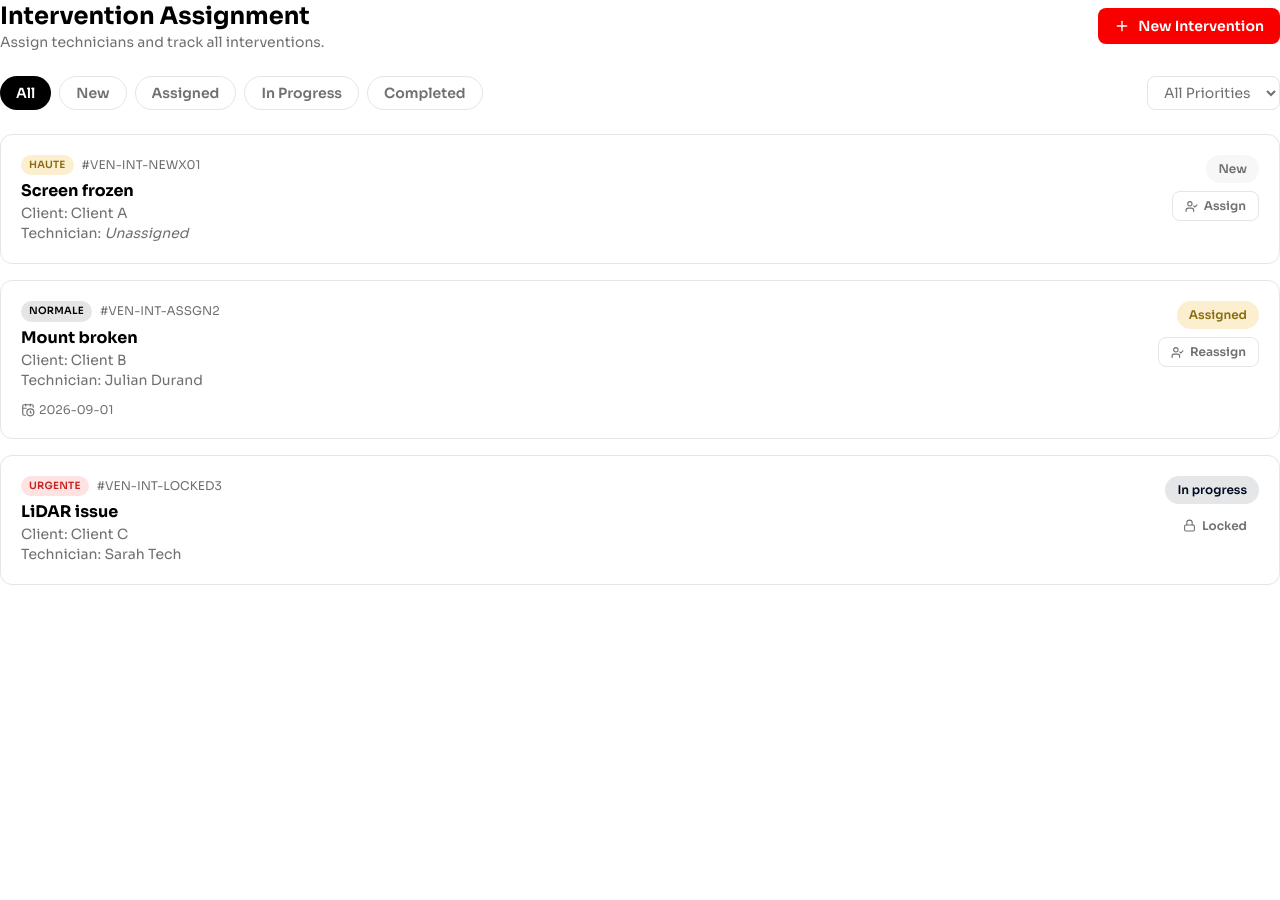
Test: Admin InterventionAssignment › shows a validation message when submitting without selecting a client
expect the heading "Screen frozen" is shown: met, box [21, 180, 134, 201]
Click the button "New Intervention" at coordinates (1189, 26), box [1098, 8, 1279, 44]
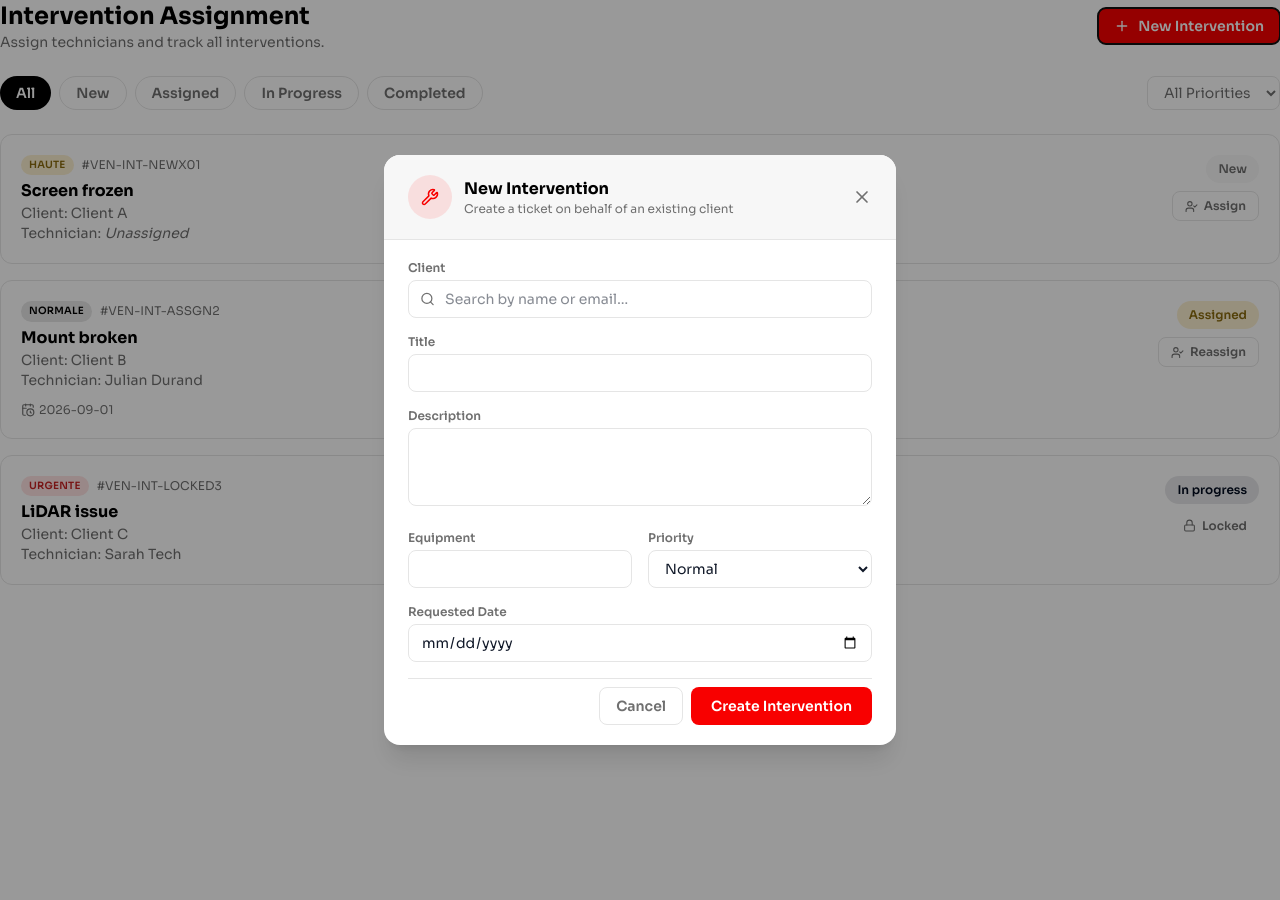
Type "No client" into the field labelled "Title" at coordinates (640, 373), box [408, 354, 872, 392]
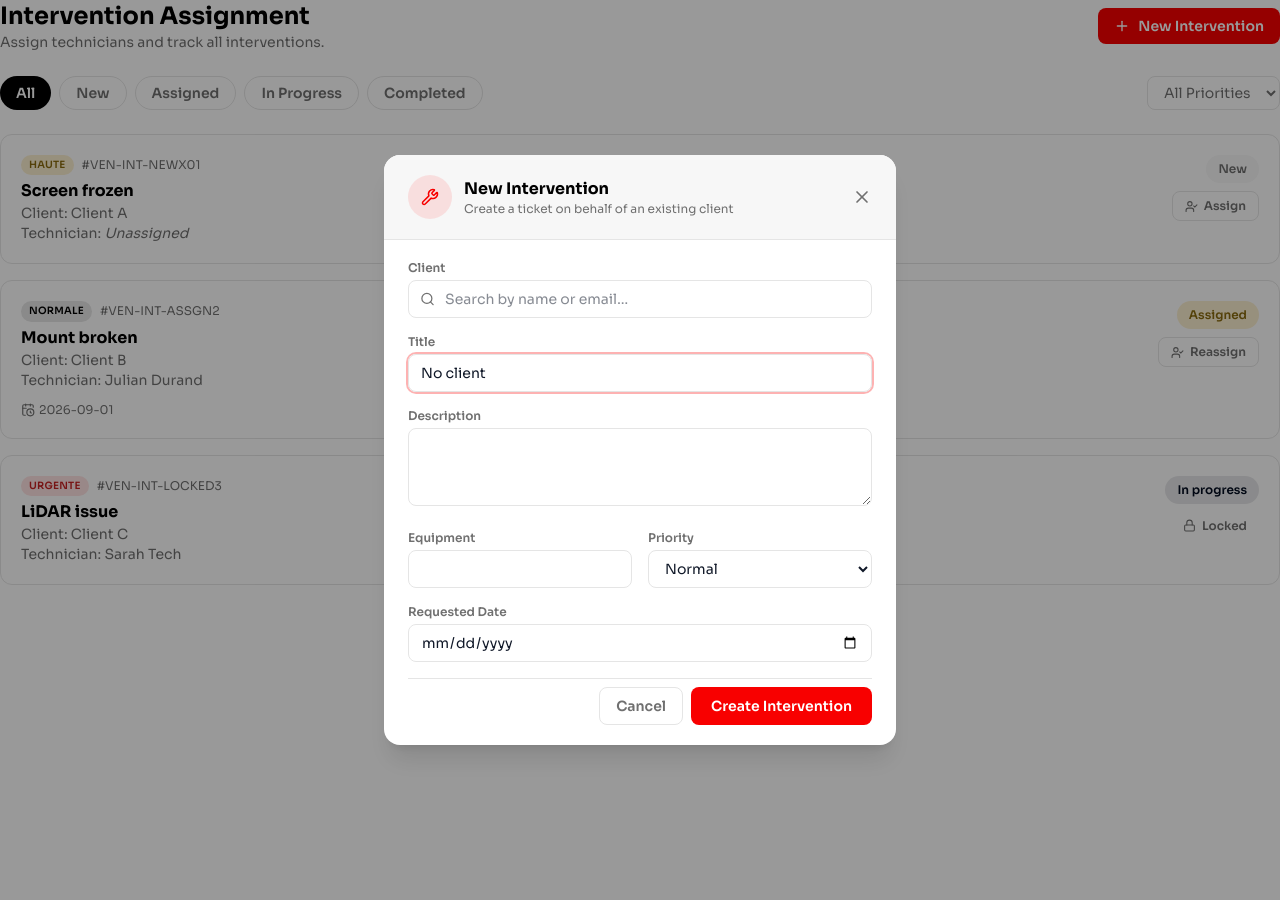
Type "Missing client." into the text box labelled "Description" at coordinates (640, 467), box [408, 428, 872, 506]
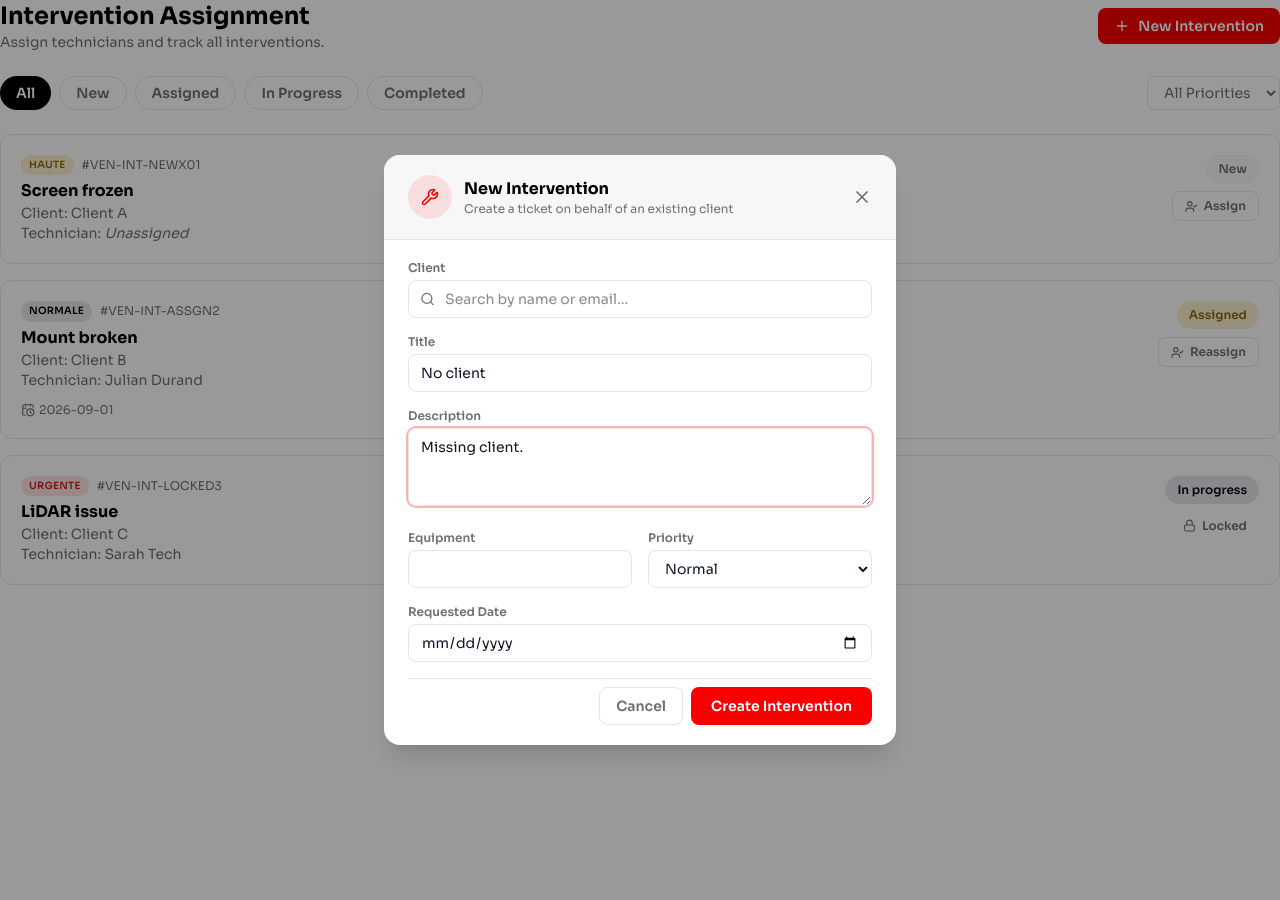
Click the button "Create Intervention" at coordinates (782, 706), box [691, 687, 872, 725]
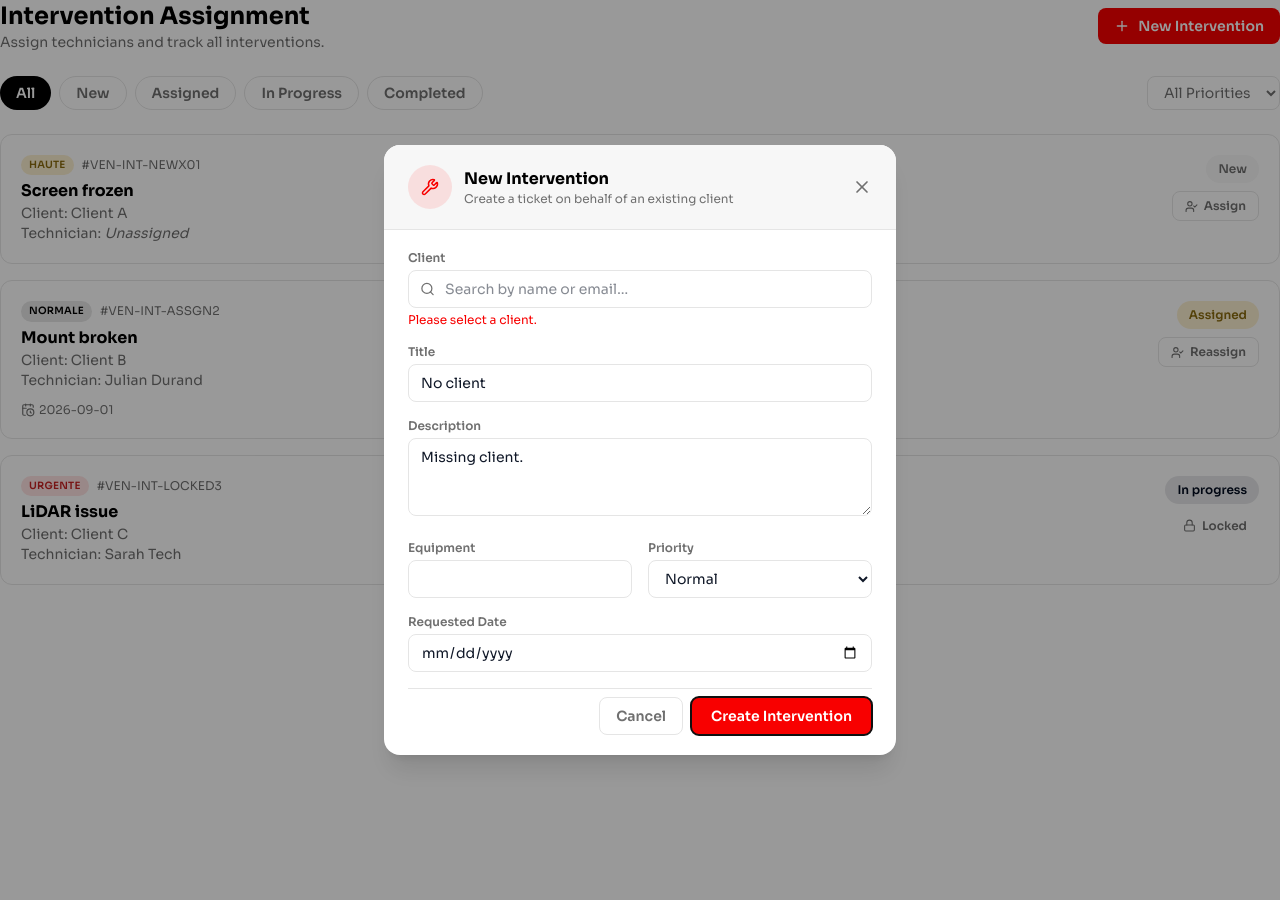
expect the text "Please select a client." is shown: met, box [408, 312, 537, 327]
